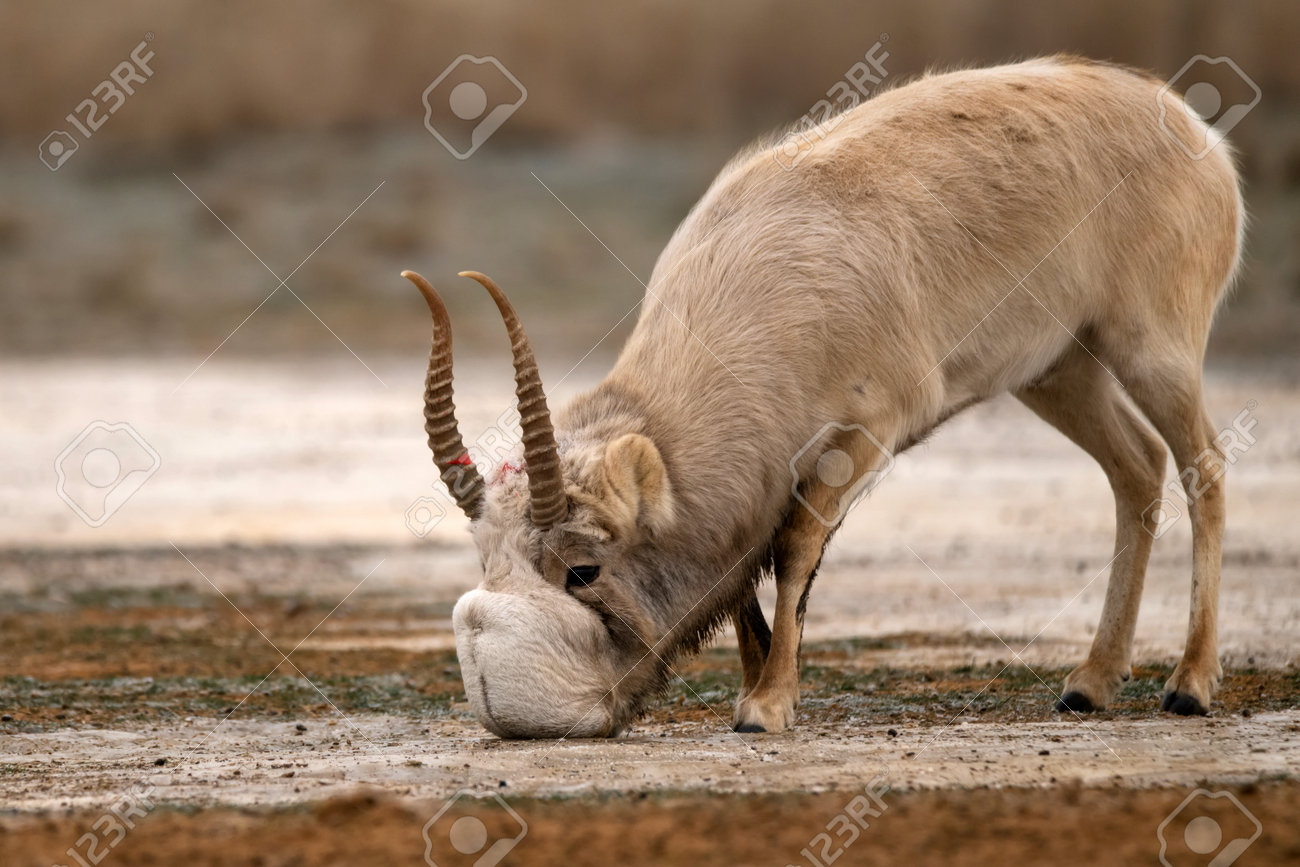saiga: (395, 51, 1248, 732)
